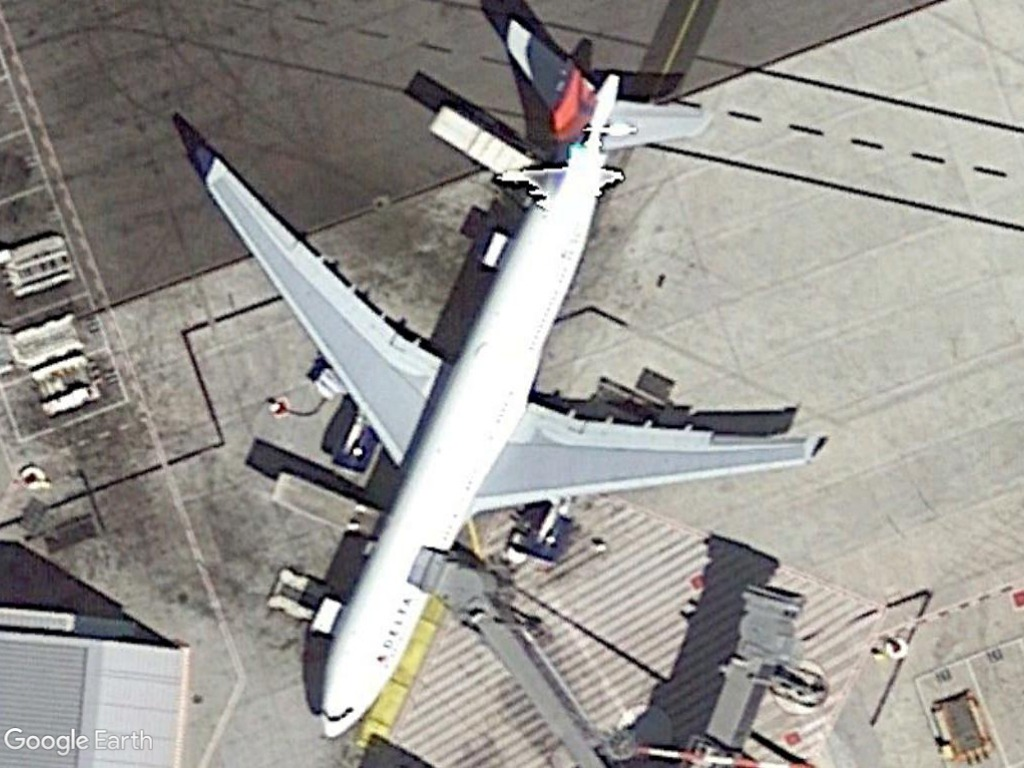airliner: (185, 9, 831, 744)
